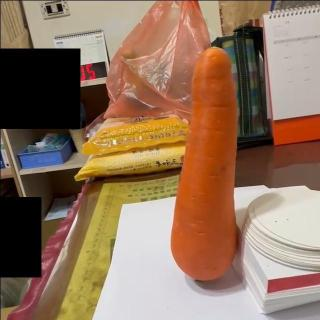carrot: (166, 46, 236, 282)
